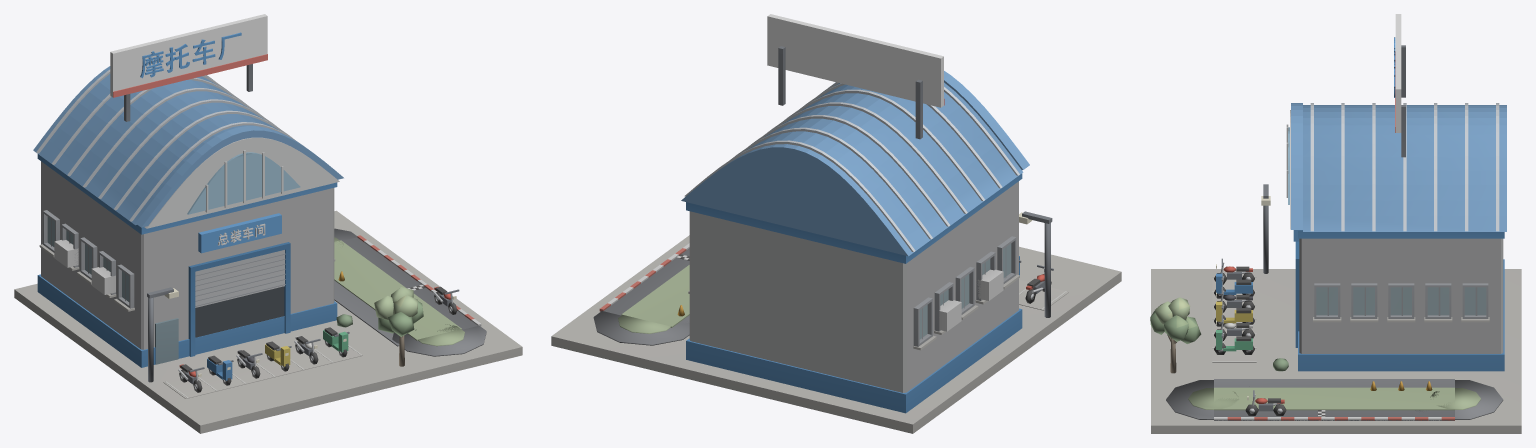
Rendered from moto-factory.glb.
3 renders of one model, left to right at view 1: azimuth 30°, elevation 25°; view 2: azimuth 150°, elevation 25°; view 3: azimuth 270°, elevation 25°, orthographic. The views are drawn at different scales.
Parts seen in each view (by area): view 1: moto-factory; view 2: moto-factory; view 3: moto-factory.
Boxes of the visible parts, box(x1,y1,x2,y2) form: moto-factory: box(14, 14, 522, 433); moto-factory: box(551, 14, 1121, 433); moto-factory: box(1150, 14, 1521, 433).
Bounding box in the file's own units: 2 × 1.67 × 2.
